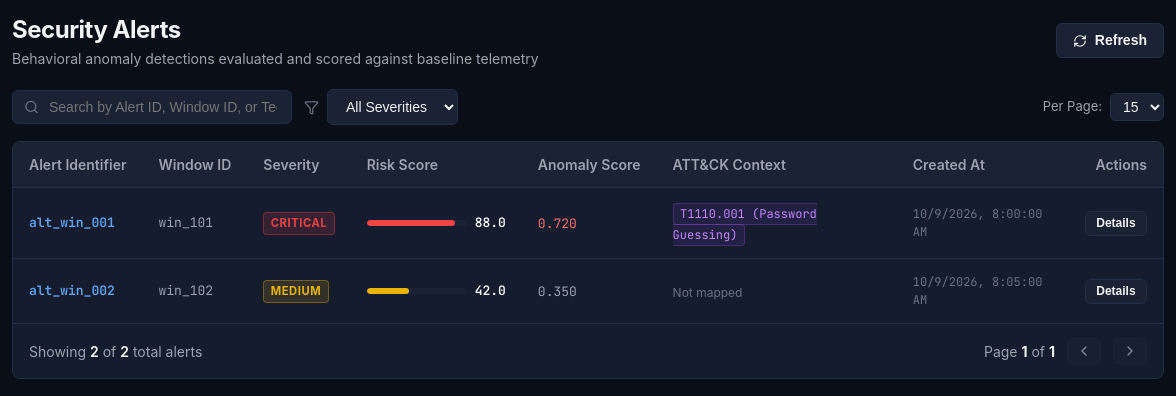
Test case: AlertsView › filters by search input without crashing
The image size is (1176, 396).
Expected: the text "alt_win_001" is shown, [13,188,142,258]
In the field named "Search alerts": (152, 107) [12,90,292,124], type "win_001"
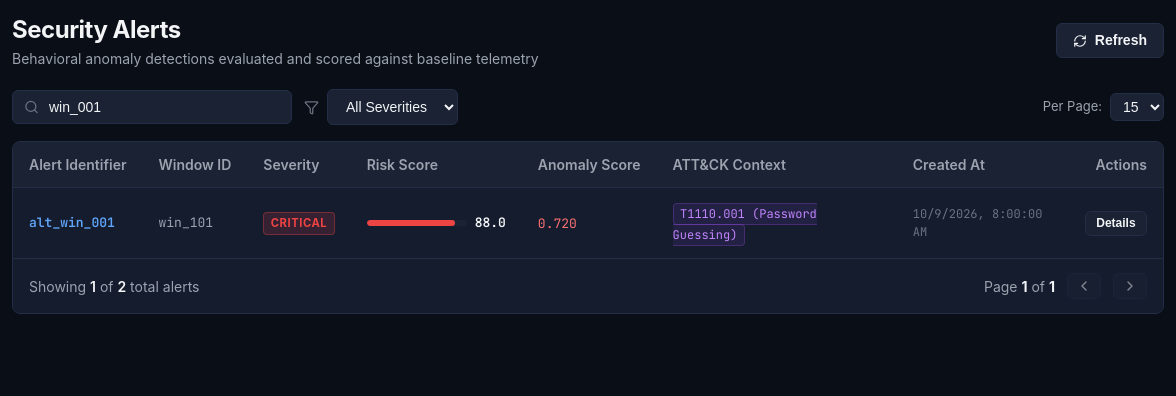
Expected: the text "alt_win_001" is shown, [13,188,142,258]
Expected: the text "alt_win_002" is gone
